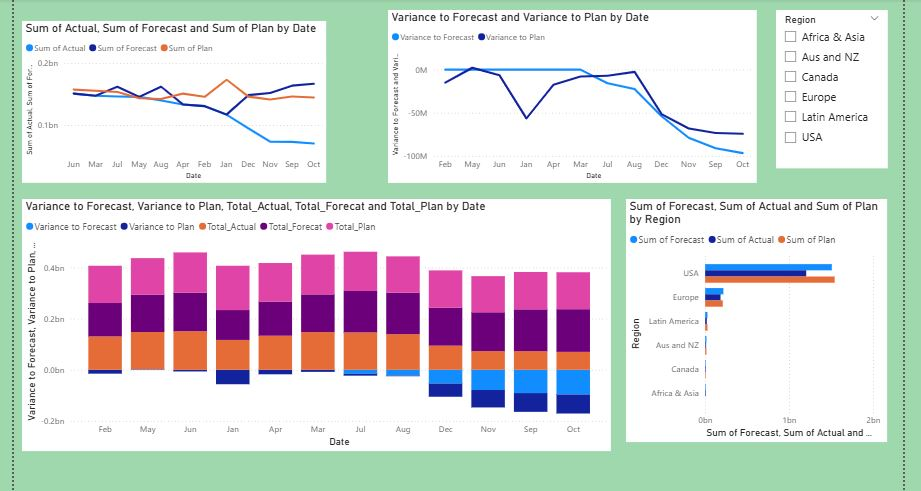

The dashboard page shown, as its layout file describes it:
{"tool":"powerbi","page":{"name":"Variance Analysis","canvas":[1280,720],"ordinal":1},"visuals":[{"type":"lineChart","fields":{"Category":["Data.Date"],"Y":["Sum(Data.Actual)","Sum(Data.Forecast)","Sum(Data.Plan)"]},"box":[11.5,31.7,437.8,233.3],"z":0},{"type":"slicer","fields":{"Values":["Data.Region"]},"box":[1096.9,16.1,161.1,228.5],"z":1000},{"type":"lineStackedColumnComboChart","fields":{"Category":["Data.Date"],"Y":["Data.Variance to Forecast","Data.Variance to Plan","Data.Total_Actual","Data.Total_Forecat","Data.Total_Plan"]},"box":[11.5,288,848.2,362.9],"z":2000},{"type":"lineChart","fields":{"Y":["Data.Variance to Forecast","Data.Variance to Plan"],"Category":["Data.Date"]},"box":[538.6,15.8,531.4,249.1],"z":3000},{"type":"clusteredBarChart","fields":{"Y":["Sum(Data.Forecast)","Sum(Data.Actual)","Sum(Data.Plan)"],"Category":["Data.Region"]},"box":[881.3,288,375.8,349.9],"z":4000}]}

Visuals, with their boxes on the page's 1280x720 design canvas (x1, y1, x2, y2). These are canvas units, not pixel positions in the 921x491 screenshot, which may show the page scaled, cropped or inside an application window:
lineChart - Data.Date x Sum(Data.Actual): 12/32/449/265
slicer - Data.Region: 1097/16/1258/245
lineStackedColumnComboChart - Data.Date x Data.Variance to Forecast: 12/288/860/651
lineChart - Data.Variance to Forecast x Data.Variance to Plan: 539/16/1070/265
clusteredBarChart - Sum(Data.Forecast) x Sum(Data.Actual): 881/288/1257/638
